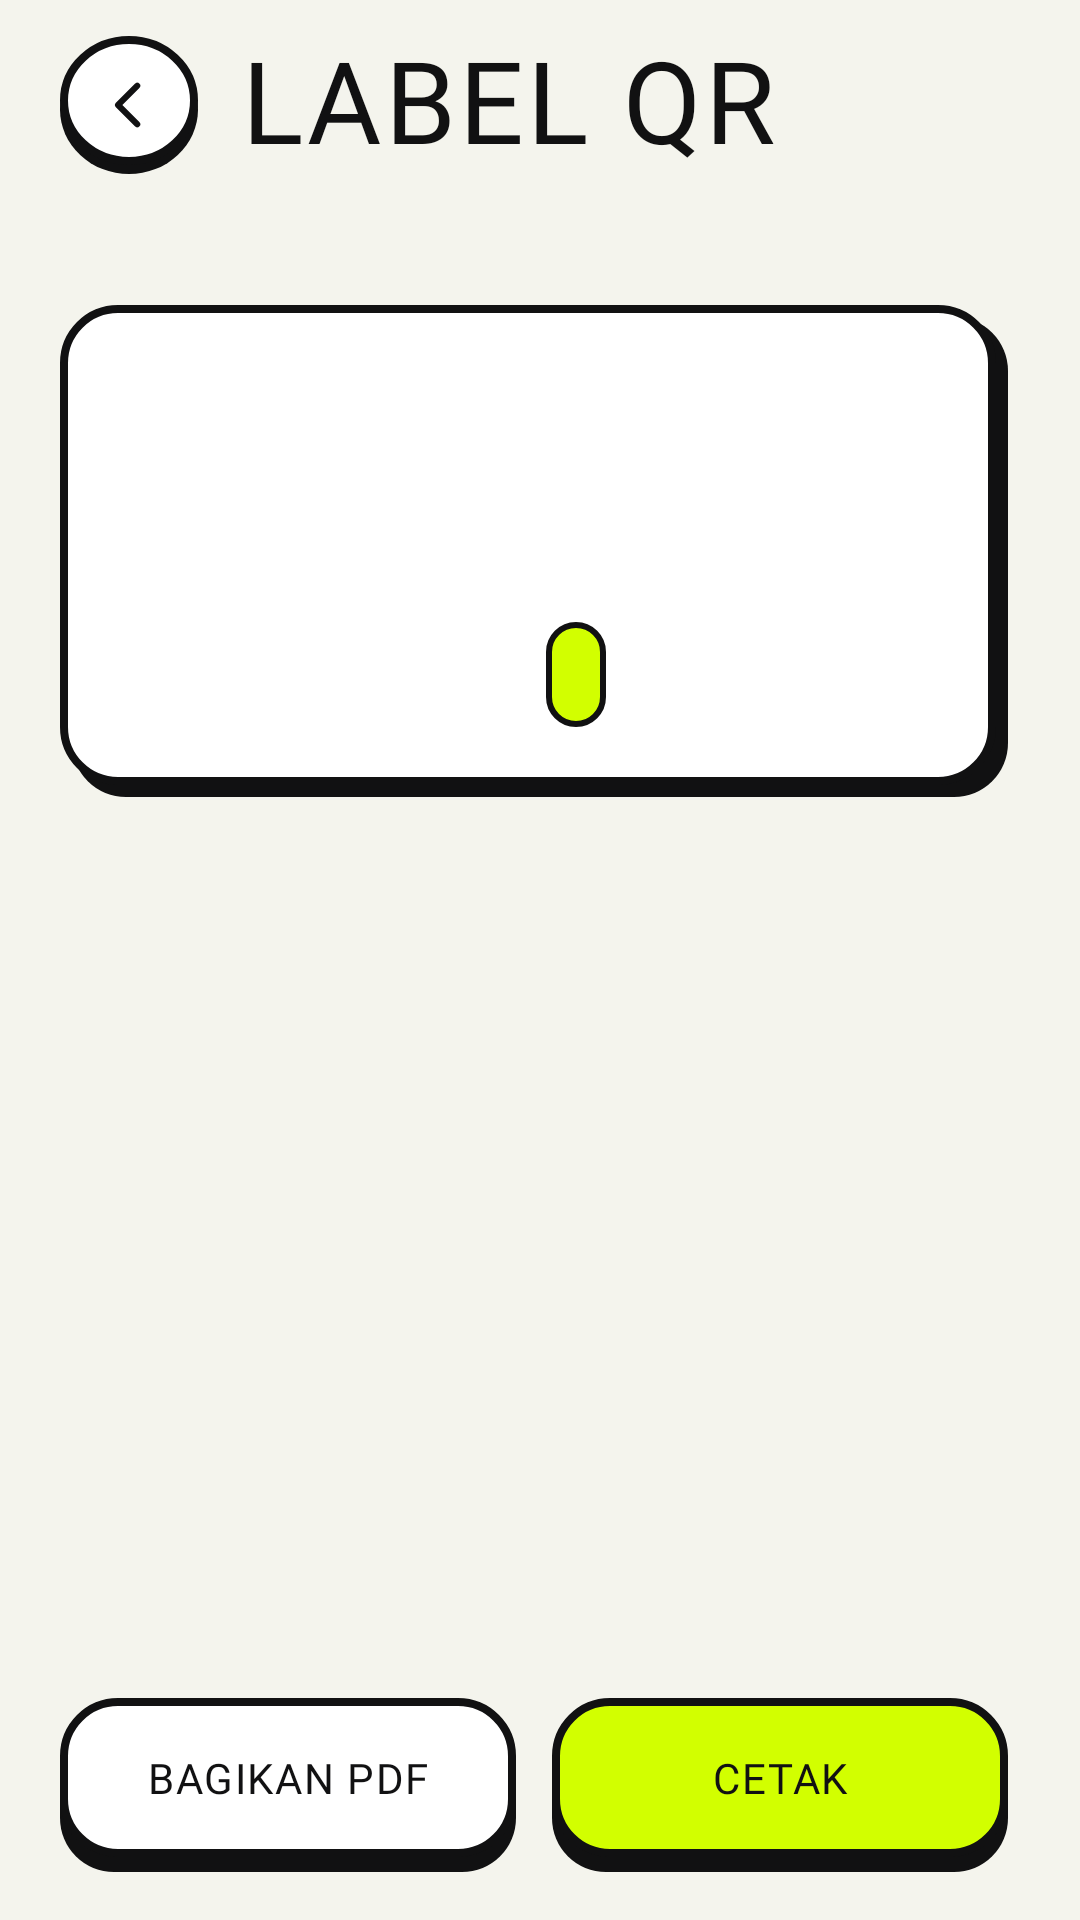

Named icons in this screenshot (1080w x 1920h) and their centers, (x,y):
Kembali: (129,105)
